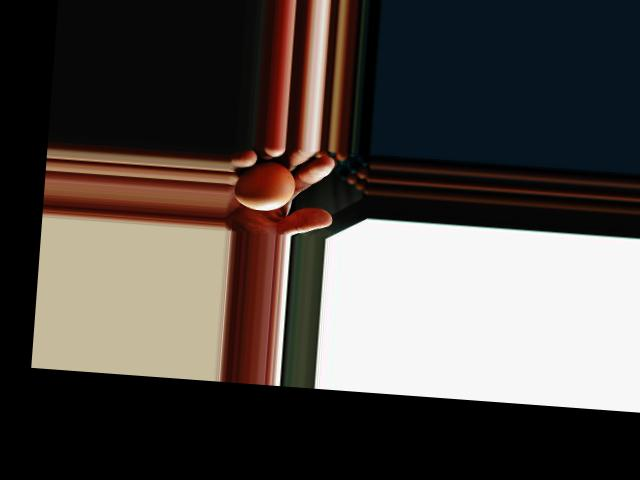egg: (231, 157, 296, 212)
